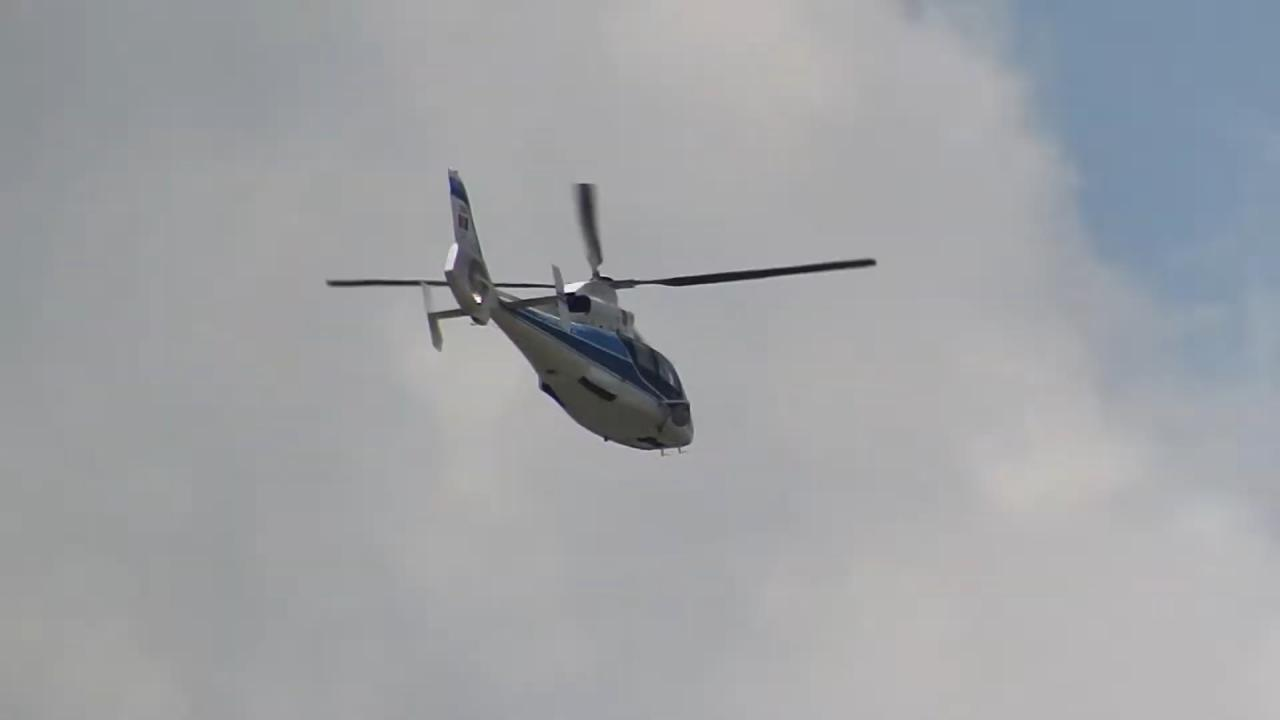Helicopter: (275, 144, 907, 495)
